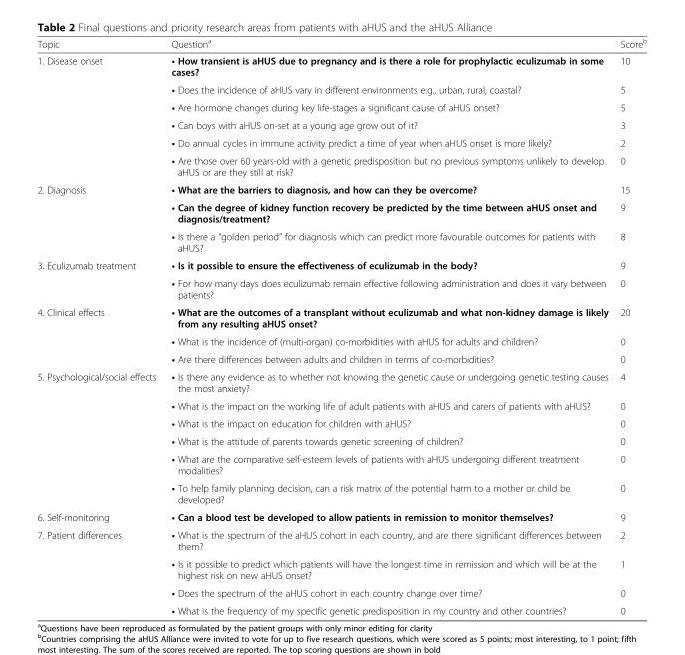table: (36, 36, 646, 616)
table column: (163, 36, 613, 616), (36, 36, 163, 616), (613, 36, 646, 616)
table column header: (36, 36, 646, 51)
table row: (36, 51, 646, 80), (36, 151, 646, 180), (36, 198, 646, 227), (36, 227, 646, 256), (36, 274, 646, 303), (36, 303, 646, 332), (36, 367, 646, 396), (36, 449, 646, 478), (36, 478, 646, 507), (36, 525, 646, 554), (36, 554, 646, 583), (36, 80, 646, 98), (36, 98, 646, 116), (36, 133, 646, 151), (36, 180, 646, 198), (36, 256, 646, 274), (36, 349, 646, 367), (36, 396, 646, 414), (36, 414, 646, 432), (36, 507, 646, 525), (36, 583, 646, 601), (36, 116, 646, 133), (36, 332, 646, 349), (36, 432, 646, 449), (36, 36, 646, 51), (36, 601, 646, 616)
table spanning cell: (36, 367, 163, 507), (36, 51, 163, 180), (36, 525, 163, 616), (36, 180, 163, 256), (36, 303, 163, 367), (36, 256, 163, 303)
